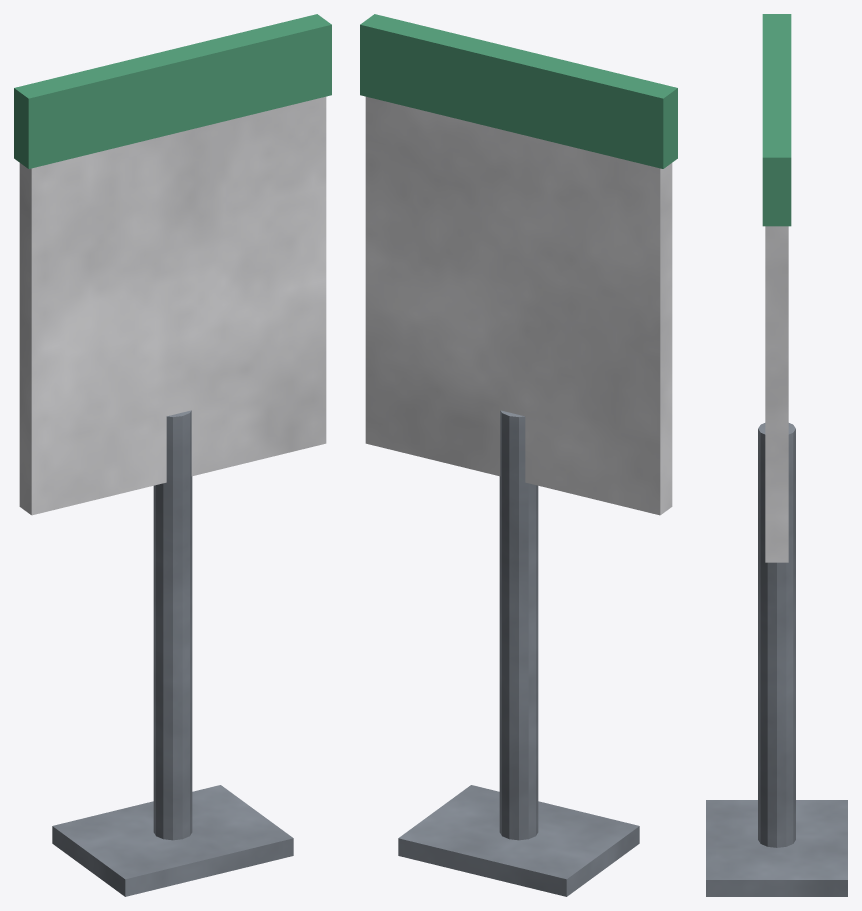
Rendered from timetable_stand.glb.
3 views of the same model, side by side, from view 1: azimuth 30°, elevation 25°; view 2: azimuth 150°, elevation 25°; view 3: azimuth 270°, elevation 25° (orthographic). The views are drawn at different scales.
Parts seen in each view (by area): view 1: Cube, Cylinder, Cube.001; view 2: Cube, Cylinder, Cube.001; view 3: Cylinder, Cube, Cube.001.
Boxes of the visible parts, x1,y1,x2,y2 form: Cube: [19, 96, 326, 515]; Cylinder: [52, 410, 293, 896]; Cube.001: [14, 14, 331, 168]; Cube: [365, 96, 672, 515]; Cylinder: [398, 410, 639, 896]; Cube.001: [360, 14, 677, 168]; Cylinder: [706, 423, 847, 896]; Cube: [765, 226, 788, 562]; Cube.001: [762, 14, 791, 226].
Size of the model in its own units: 0.72 by 1.8 by 0.3.
Materials: 3 (2 with a texture image).
